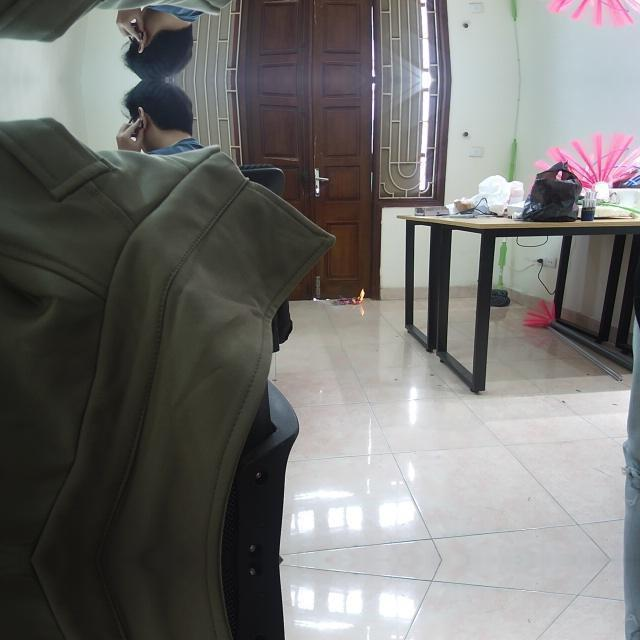smoke: (348, 286, 366, 304)
